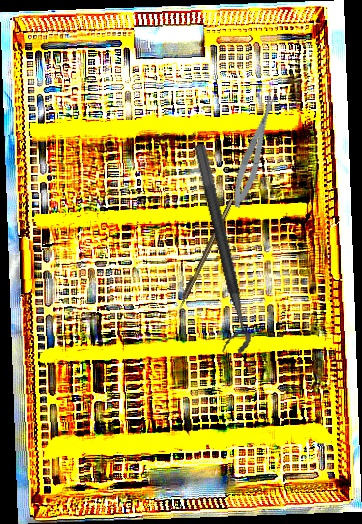Fixation Ring: (175, 142, 255, 359)
Hook Surgical: (173, 198, 235, 316)
Micro Scissor: (226, 89, 285, 210)
